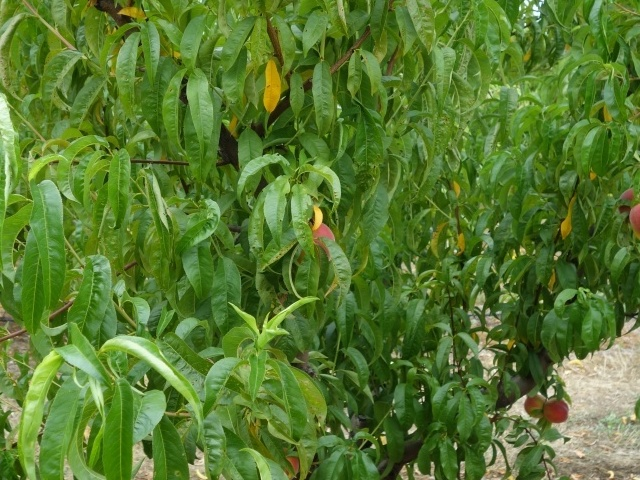peach: (299, 217, 341, 263), (541, 394, 571, 428), (523, 391, 551, 421)
